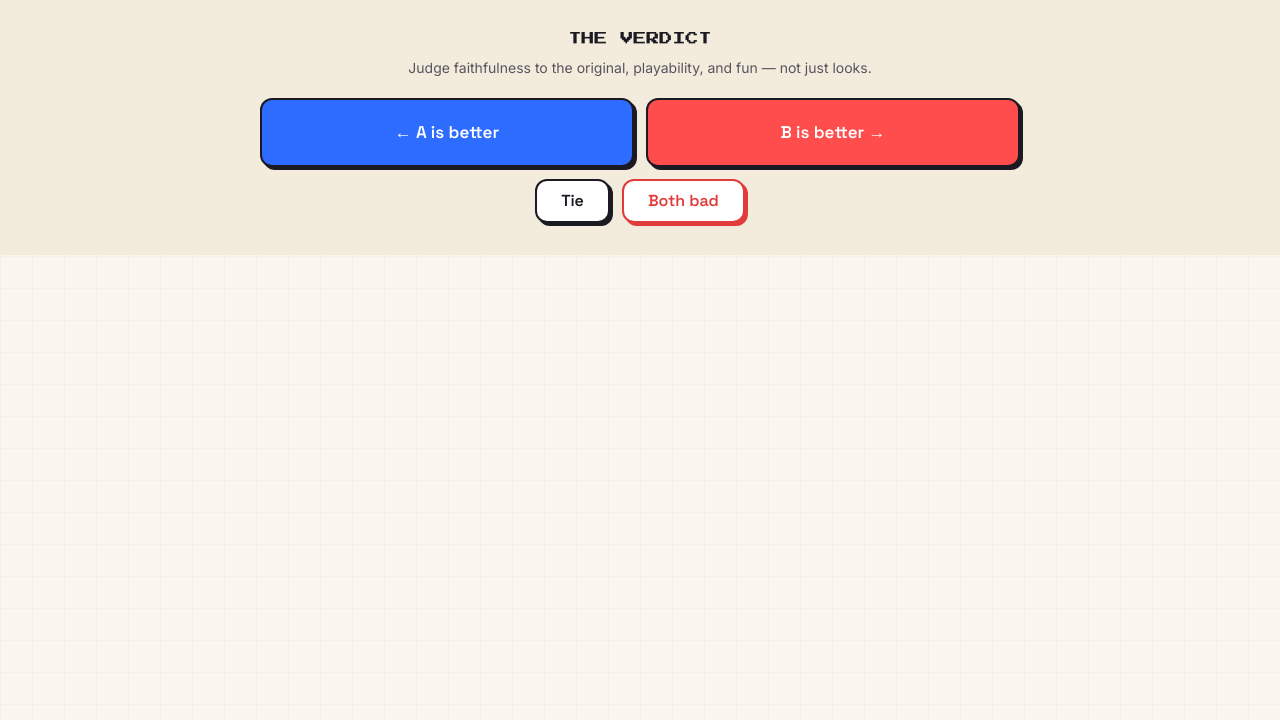
Test: VoteBar › prompts sign-in with a real primary button when the vote returns unauthenticated
Click the button "← A is better" at coordinates (447, 132), box x1=260 y1=98 x2=634 y2=167
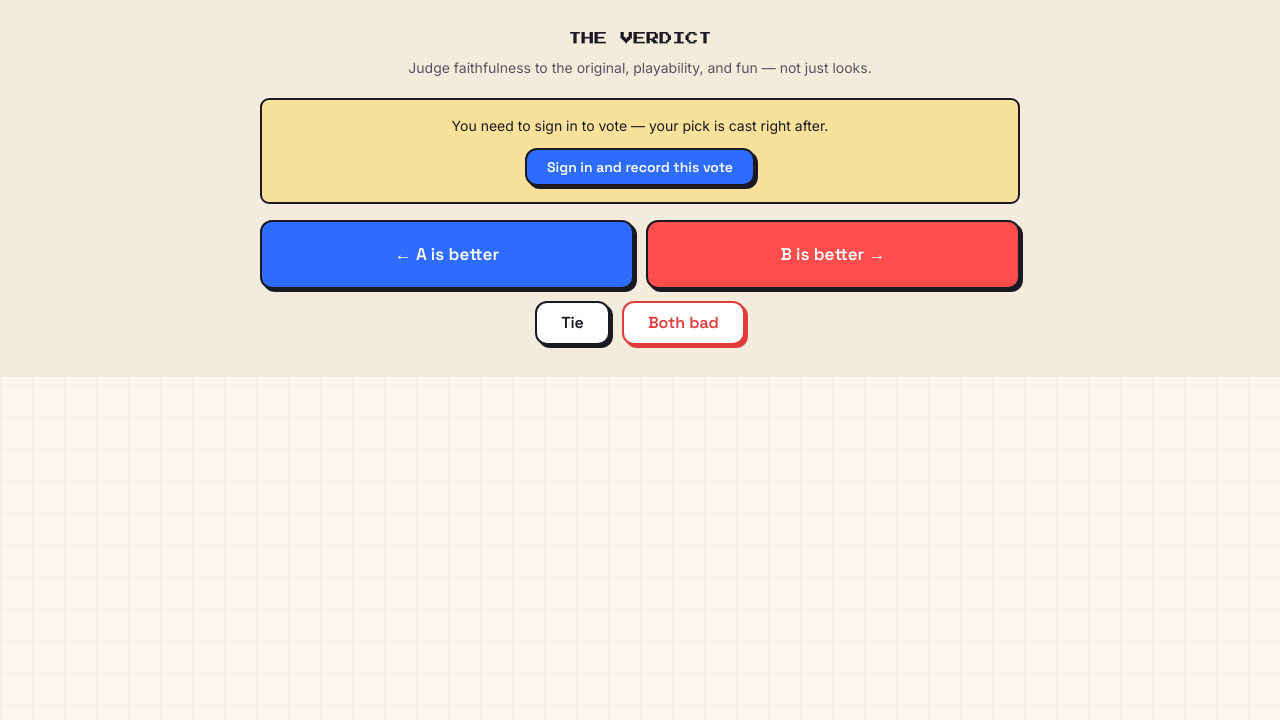
Expected: the text "You need to sign in to vote — your pick is cast right after." is shown, x1=452 y1=116 x2=828 y2=136
Expected: the button "Sign in and record this vote" is shown, x1=525 y1=148 x2=755 y2=186
